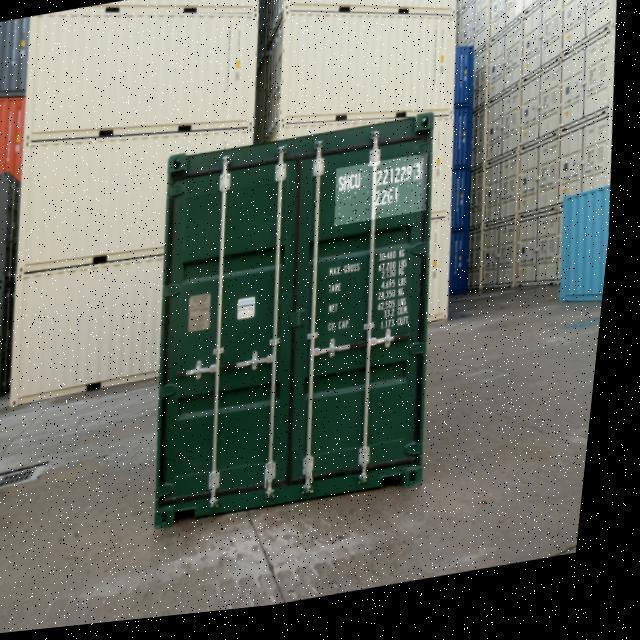ISO: (368, 186, 401, 212)
container_number: (333, 153, 426, 199)
